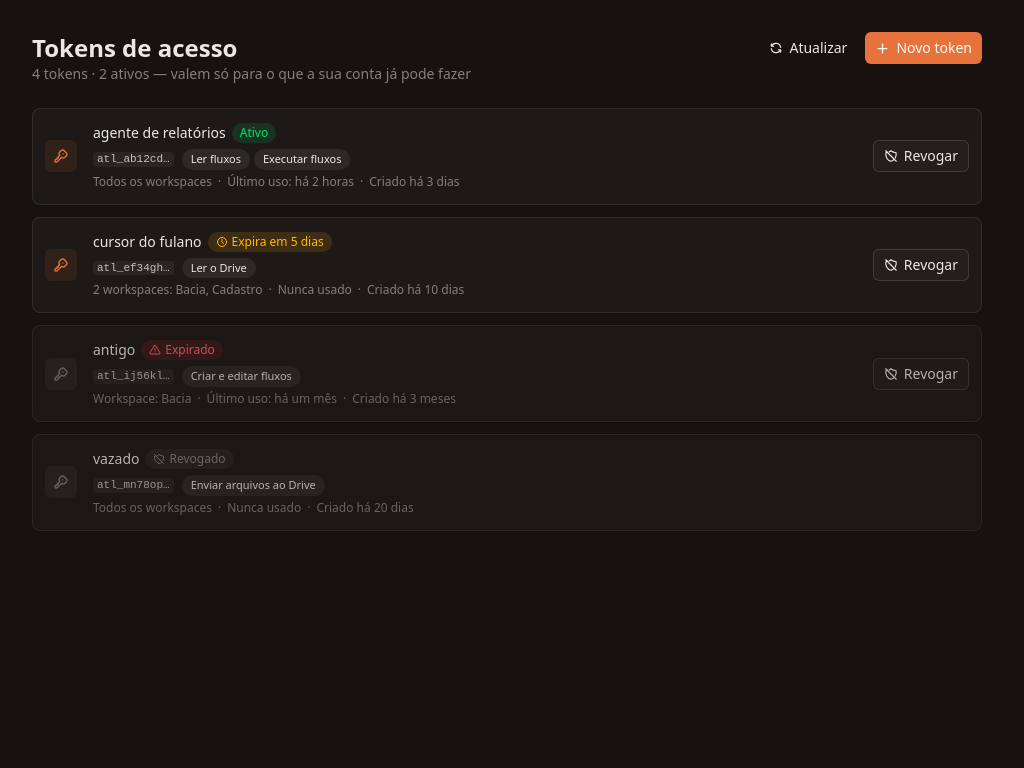
Test case: Tokens de acesso — criar pelo cabeçalho › o token novo entra no topo da lista e o segredo aparece só no diálogo
Expected: the text "agente de relatórios" is shown, [93,123,226,143]
Click the button "Novo token": [924, 48] box [865,32,982,64]
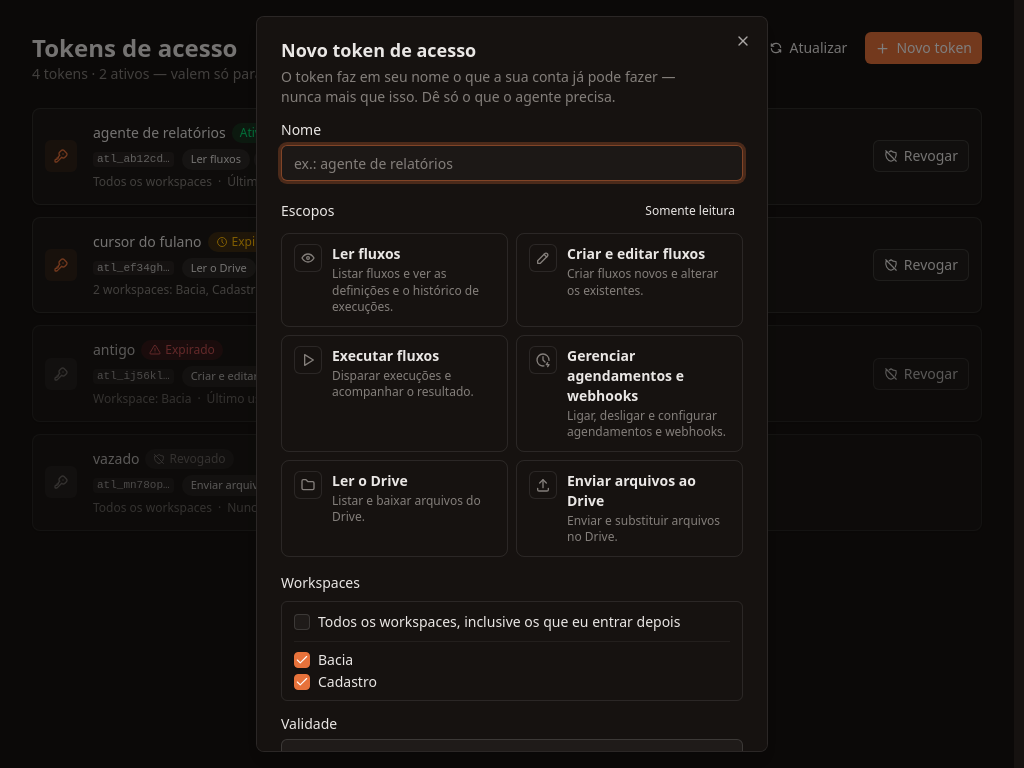
In the field labelled "Nome": [512, 163] box [281,145,743,181], type "agente novo"
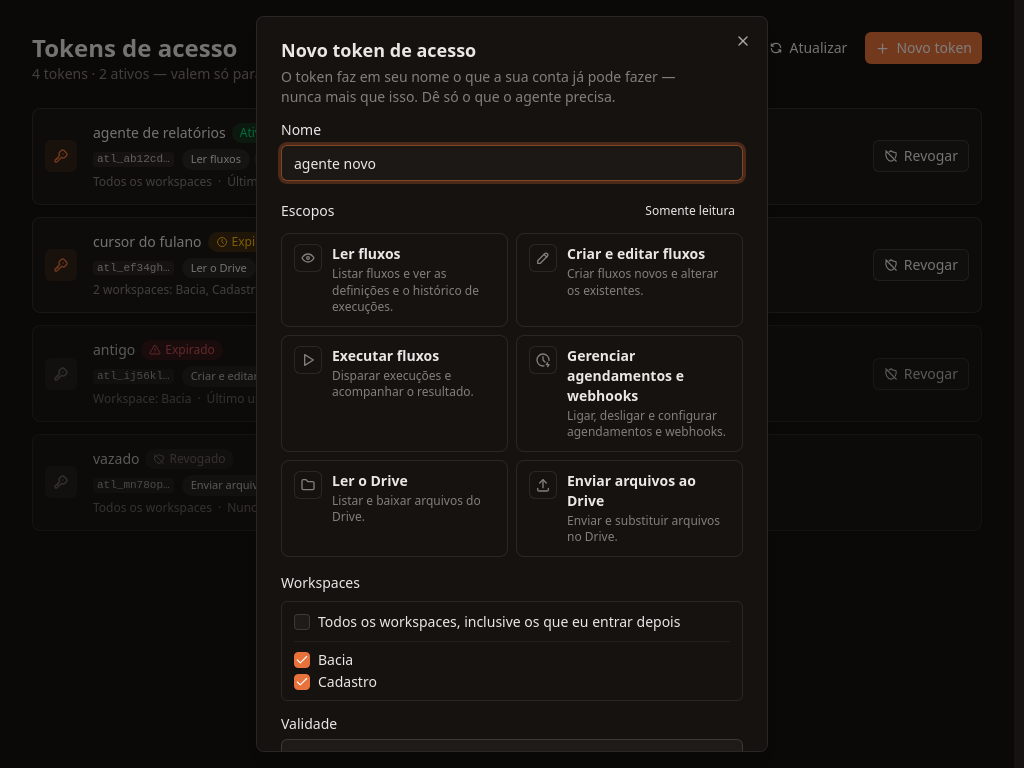
Click the button "Ler fluxos": [394, 280] box [281,233,508,326]
(page scrolled)
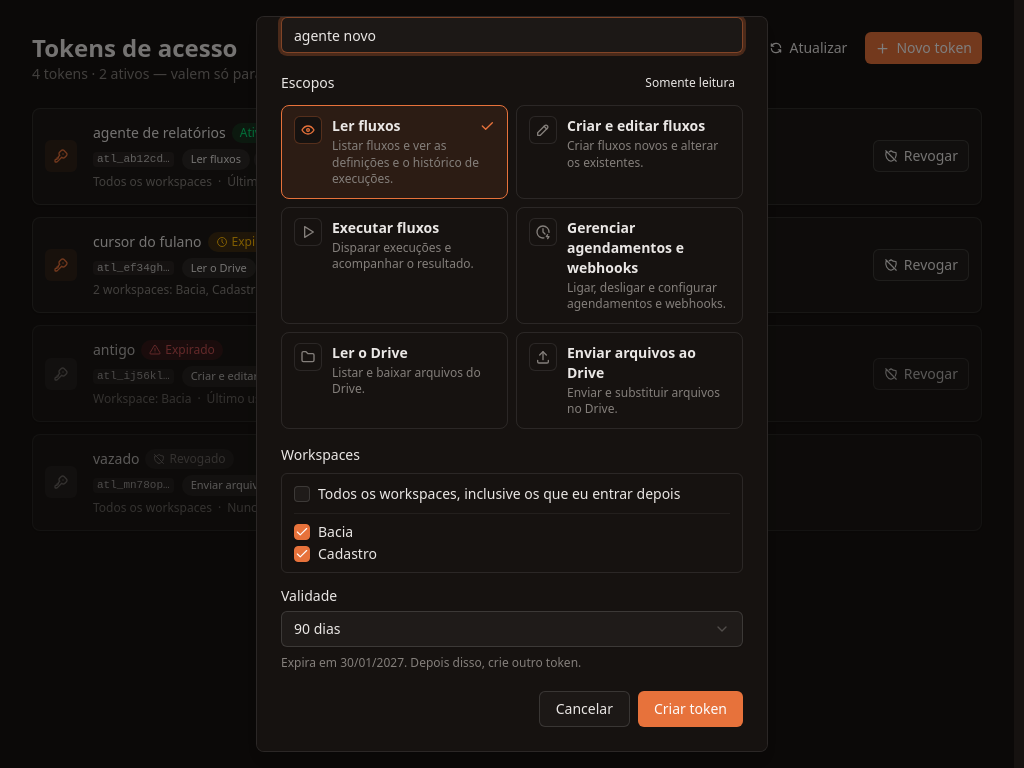
Click the button "Criar token": [690, 709] box [638,691,743,727]
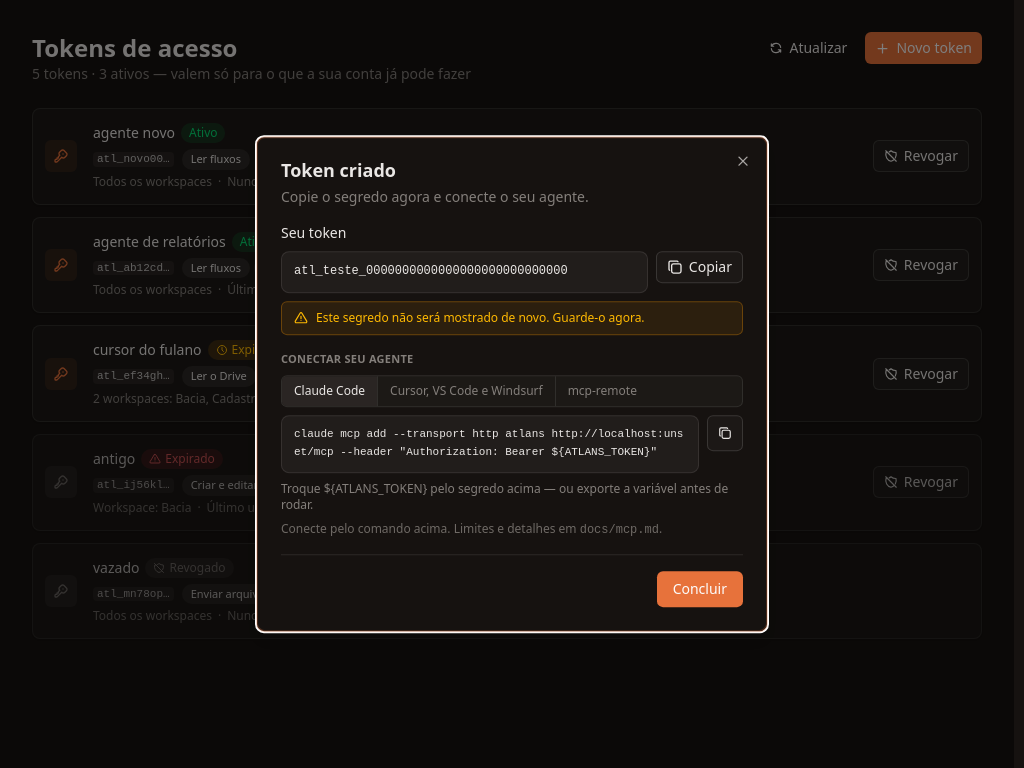
Now the text named "Segredo do token" reads "atl_teste_0000000000000000000000000000", box [294,264,568,278]
Now the list item shows "agente novo", box [93,123,175,142]
Now the list item shows "atl_novo00…", box [32,108,982,205]
Click the button "Concluir": [700, 589] box [657,571,743,607]
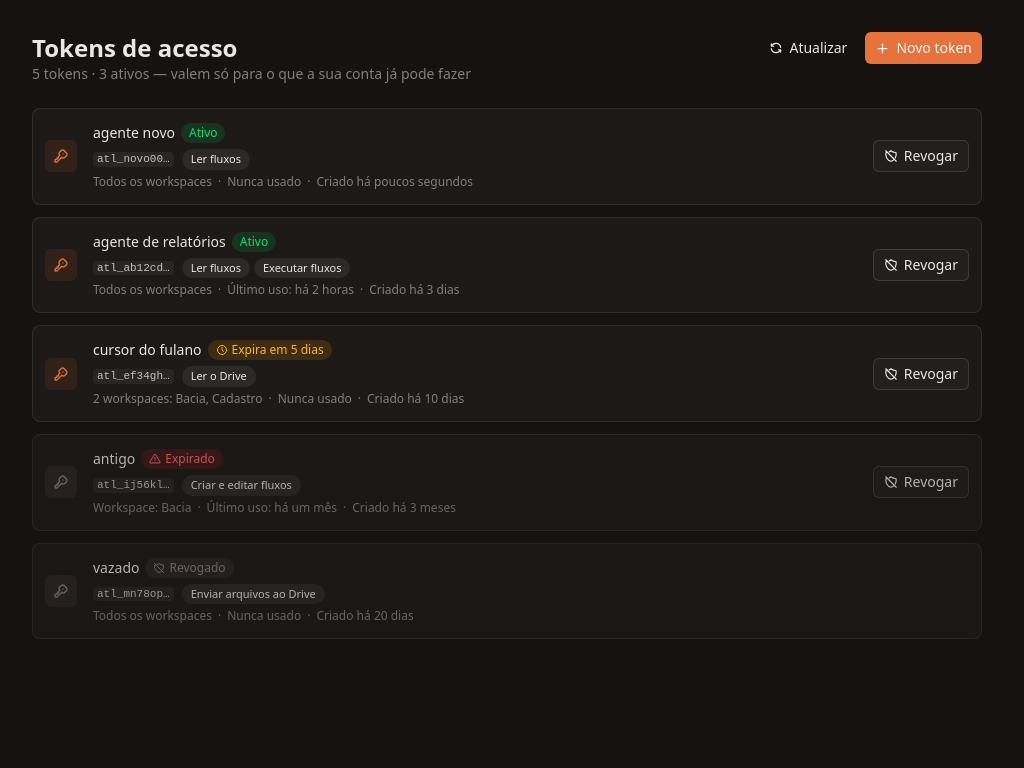
Now the text "5 tokens · 3 ativos — valem só para o que a sua conta já pode fazer" is shown, box [32,64,471,84]
Now the dialog is gone
